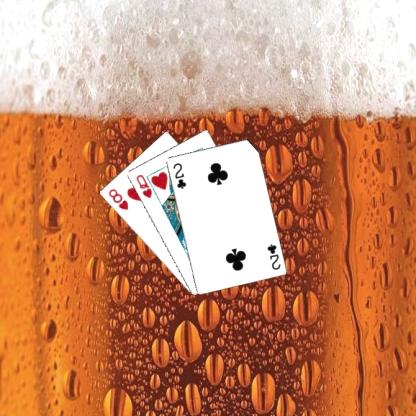2C: (170, 160, 188, 190), (264, 241, 282, 271)
8H: (106, 186, 129, 212)
QH: (133, 172, 153, 200)
